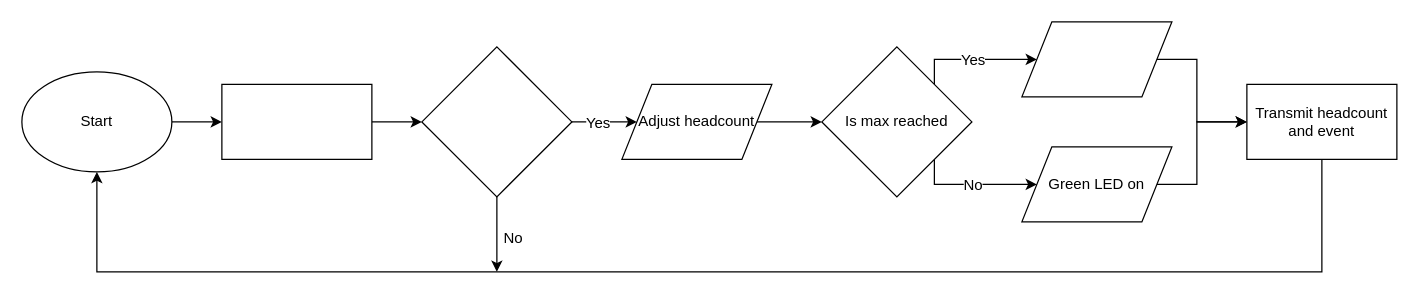
This 1419x304 diagram has some shape labels left out. Here are the shapes that lost their labels. From the top down, the centre of each, then its label:
point (1096, 59): Red LED on
point (296, 121): Observe Sensors
point (496, 121): Is someone entering/leaving
